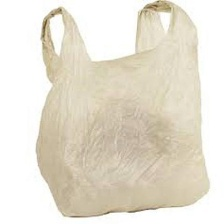plastic_bag: (17, 0, 213, 219)
